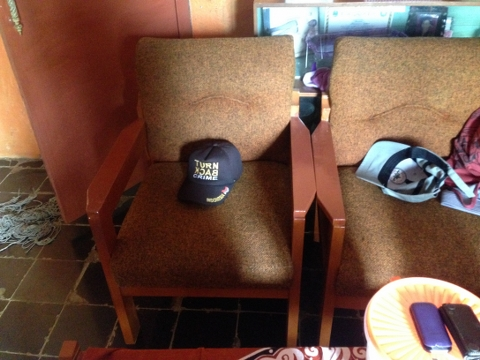kursi: (86, 36, 316, 349), (312, 37, 480, 347)
